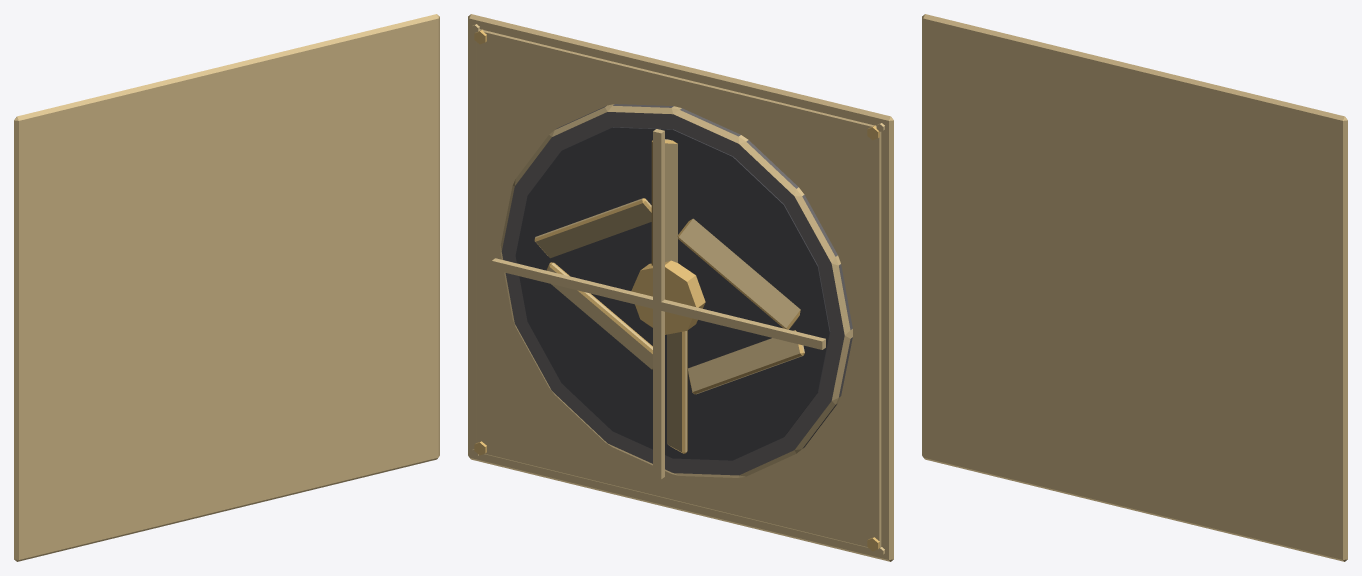
The model's file is Fill_Fan_2x2.fbx.
3 views of the same model, side by side, from view 1: azimuth 30°, elevation 25°; view 2: azimuth 150°, elevation 25°; view 3: azimuth 330°, elevation 25° (orthographic).
Parts seen in each view (by area): view 1: Fill_Fan_2x2; view 2: Fill_Fan_2x2, Spin, Guard, Guard.001; view 3: Fill_Fan_2x2.
Boxes of the visible parts, <box> form: Fill_Fan_2x2: <box>14,14,439,561</box>; Fill_Fan_2x2: <box>468,14,893,561</box>; Spin: <box>534,139,804,453</box>; Guard: <box>491,258,825,349</box>; Guard.001: <box>653,129,664,479</box>; Fill_Fan_2x2: <box>922,14,1347,561</box>.
Bounding box in the file's own units: 2.06 × 2.06 × 0.215.
